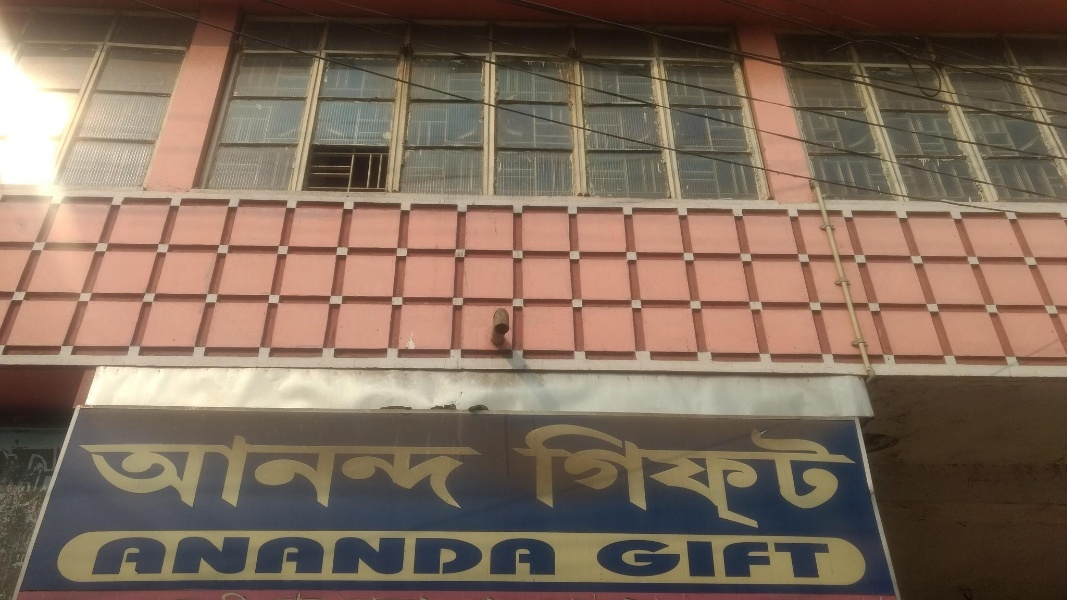text: (513, 418, 528, 531), (529, 418, 544, 531), (545, 418, 560, 531), (561, 418, 576, 531), (577, 418, 592, 531), (593, 418, 608, 531), (609, 418, 624, 531), (625, 418, 640, 531), (641, 418, 656, 531), (657, 418, 672, 531), (673, 418, 688, 531), (689, 418, 704, 531), (705, 418, 720, 531), (721, 418, 736, 531), (737, 418, 752, 531), (753, 418, 768, 531), (769, 418, 784, 531), (785, 418, 800, 531), (801, 418, 816, 531), (817, 418, 832, 531), (833, 418, 848, 531), (849, 418, 864, 531), (81, 429, 96, 518), (97, 429, 112, 518), (113, 429, 128, 518), (129, 429, 144, 518), (145, 429, 160, 518), (161, 429, 176, 518), (177, 429, 192, 518), (193, 429, 208, 518), (209, 429, 224, 518), (225, 429, 240, 518), (241, 429, 256, 518), (257, 429, 272, 518), (273, 429, 288, 518), (289, 429, 304, 518), (305, 429, 320, 518), (321, 429, 336, 518), (337, 429, 352, 518), (353, 429, 368, 518), (369, 429, 384, 518), (385, 429, 400, 518), (401, 429, 416, 518), (417, 429, 432, 518), (433, 429, 448, 518), (449, 429, 464, 518), (465, 429, 480, 518), (17, 435, 32, 511), (33, 435, 48, 511), (49, 435, 64, 511), (865, 418, 873, 531), (97, 532, 112, 580), (113, 532, 128, 580), (129, 532, 144, 580), (145, 532, 160, 580), (161, 532, 176, 580), (177, 532, 192, 580), (193, 532, 208, 580), (209, 532, 224, 580), (225, 532, 240, 580), (241, 532, 256, 580), (257, 532, 272, 580), (273, 532, 288, 580), (289, 532, 304, 580), (305, 532, 320, 580), (321, 532, 336, 580), (337, 532, 352, 580), (353, 532, 368, 580), (369, 532, 384, 580), (385, 532, 400, 580), (401, 532, 416, 580), (417, 532, 432, 580), (433, 532, 448, 580), (449, 532, 464, 580), (465, 532, 480, 580), (481, 532, 496, 580), (497, 532, 512, 580), (513, 532, 528, 580), (529, 532, 544, 580), (545, 532, 560, 580), (609, 536, 624, 582), (625, 536, 640, 582), (641, 536, 656, 582), (657, 536, 672, 582), (673, 536, 688, 582), (689, 536, 704, 582), (705, 536, 720, 582), (721, 536, 736, 582), (737, 536, 752, 582), (753, 536, 768, 582), (769, 536, 784, 582), (785, 536, 800, 582), (801, 536, 816, 582), (817, 536, 832, 582), (65, 435, 73, 511), (595, 536, 608, 582), (76, 429, 80, 518), (481, 429, 485, 518), (833, 536, 837, 582), (14, 435, 16, 511), (95, 532, 96, 580)
